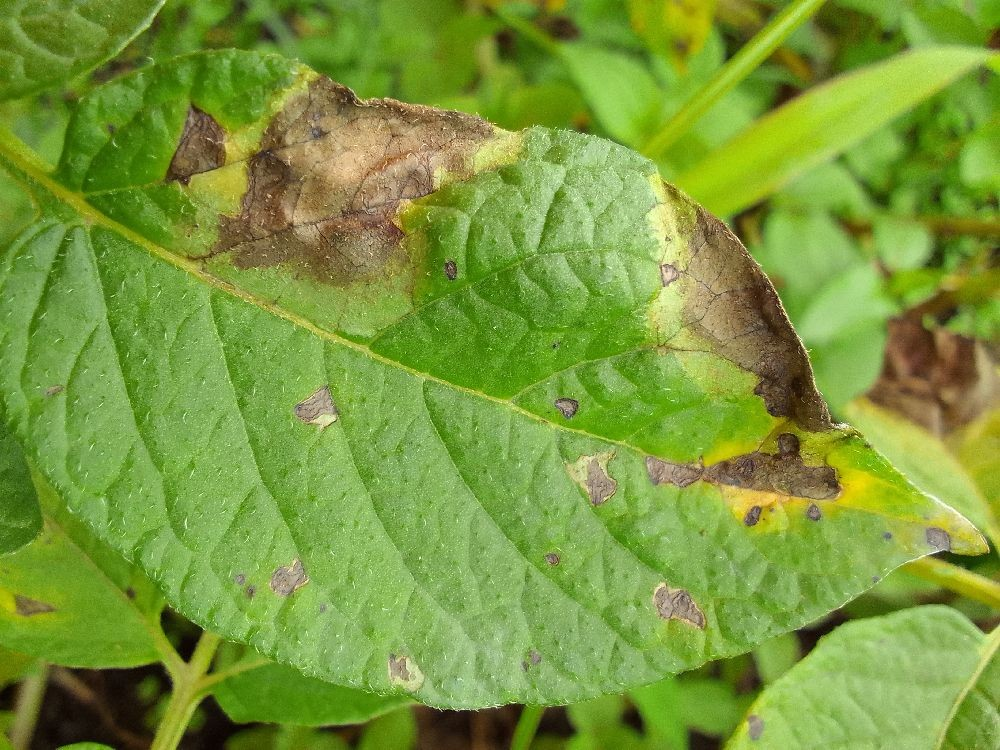late_blight: (631, 167, 999, 543), (117, 33, 536, 325), (0, 638, 194, 750), (386, 682, 598, 750)
